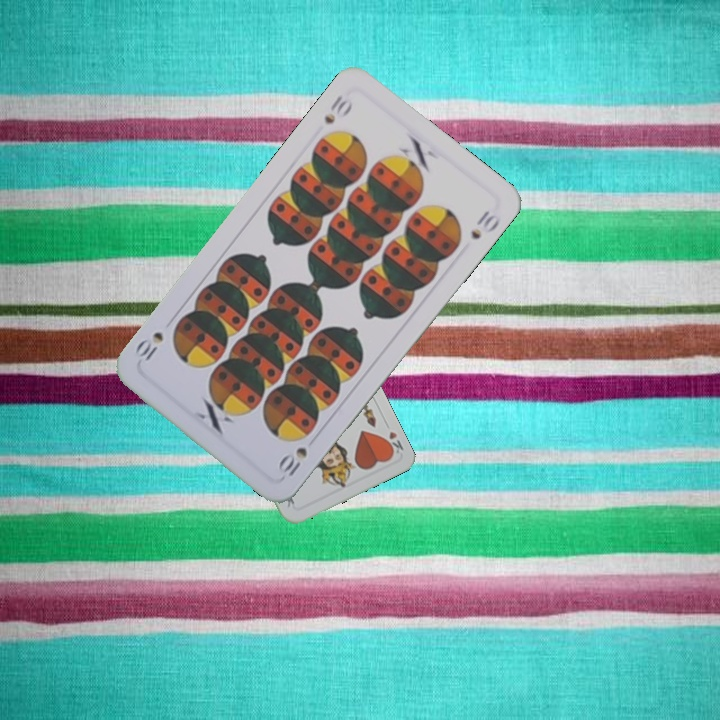HK: (380, 418, 406, 459)
S10: (320, 90, 356, 127), (276, 443, 310, 480)
